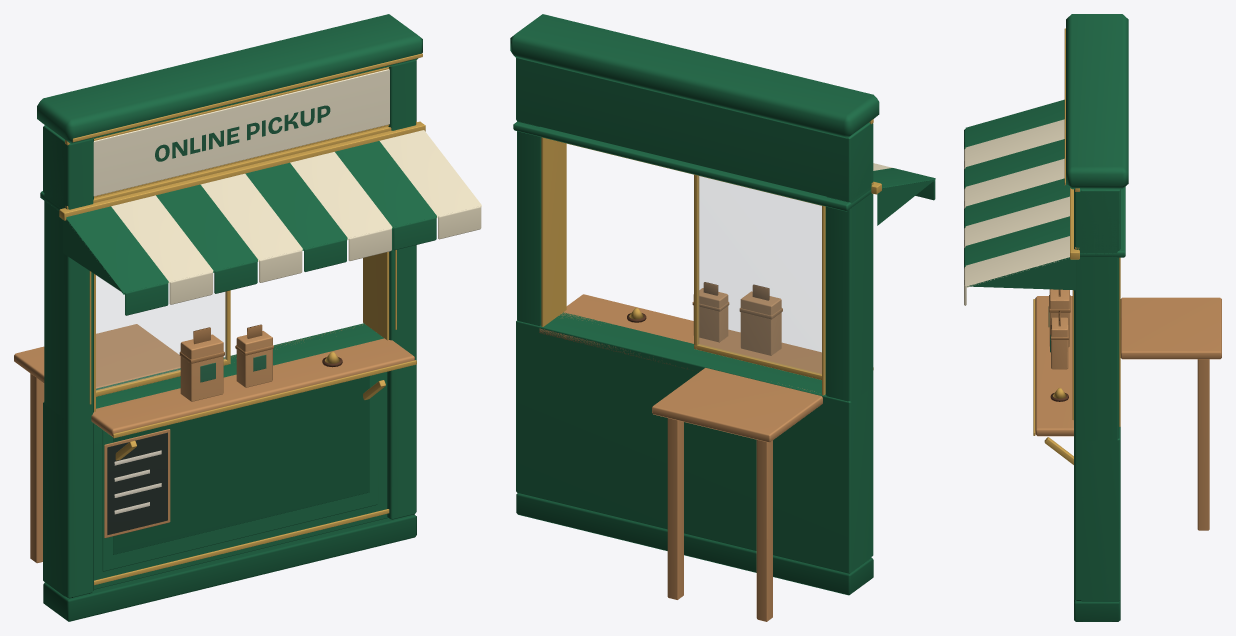
The model's file is pickup_window_tier2.glb.
3 views of the same model, side by side, from view 1: azimuth 30°, elevation 25°; view 2: azimuth 150°, elevation 25°; view 3: azimuth 270°, elevation 25° (orthographic). The views are drawn at different scales.
Visible parts, largest first — view 1: KickInset, Cap, Pilaster-1, SignPanel, KickWall, Plinth, Pilaster1, Pane, Ledge, KickPanel, MenuCard, InnerShelf (+31 smaller); view 2: KickWall, SignBand, Pane, Cap, Pilaster-1, InnerShelf, Plinth, Ledge, Pilaster1, Bead0.75, Header, ShelfLeg-0.68 (+8 smaller); view 3: Pilaster1, Cap, KickWall, InnerShelf, Ledge, AwningStripe7, ShelfLeg-0.20, AwningStripe6, AwningStripe5, AwningStripe4, AwningStripe0, AwningStripe3 (+9 smaller).
Boxes of the visible parts, x1,y1,x2,y2 form: KickInset: (113,376,369,554); Cap: (37,14,422,143); Pilaster-1: (44,129,93,598); SignPanel: (93,69,389,196); KickWall: (43,323,388,596); Plinth: (43,514,416,621); Pilaster1: (387,60,416,519); Pane: (96,273,226,391); Ledge: (91,324,414,436); KickPanel: (102,374,378,571); MenuCard: (107,432,167,534); InnerShelf: (14,324,180,388); KickWall: (516,312,870,573); SignBand: (516,58,870,202); Pane: (698,176,821,374); Cap: (510,14,879,138); Pilaster-1: (825,122,873,557); InnerShelf: (652,368,822,442); Plinth: (516,493,873,595); Ledge: (539,294,821,391); Pilaster1: (517,121,541,325); Bead0.75: (541,137,566,326); Header: (513,121,871,211); ShelfLeg-0.68: (756,440,772,621); Pilaster1: (1074,189,1119,601); Cap: (1066,14,1128,189); KickWall: (1081,427,1120,601); InnerShelf: (1120,297,1221,359); Ledge: (1035,296,1073,436); AwningStripe7: (965,236,1069,287); ShelfLeg-0.20: (1197,359,1209,530); AwningStripe6: (965,216,1069,265); AwningStripe5: (965,196,1069,245); AwningStripe4: (965,178,1069,225); AwningStripe0: (965,99,1064,147); AwningStripe3: (965,158,1064,206).
Bounding box in the file's own units: 1.86 × 2.48 × 1.27.
